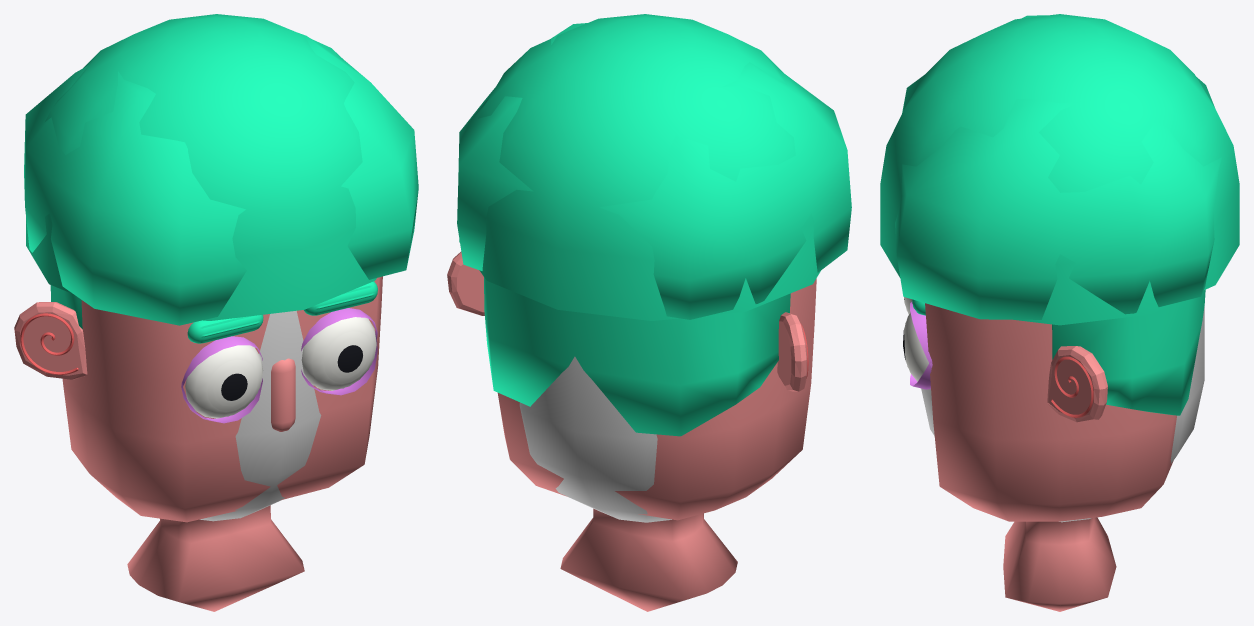
File: convobot_head.fbx
3 views of the same model, side by side, from view 1: azimuth 30°, elevation 25°; view 2: azimuth 150°, elevation 25°; view 3: azimuth 270°, elevation 25° (orthographic).
Visible parts, largest first — view 1: hair_backup1, hair_bowl, head, head_backup, R_ear, R_eye, L_eye, R_eye_backup2, nose, L_eye_backup2, R_brow, L_brow (+5 smaller); view 2: hair_backup1, hair_bowl, head, hair_back, head_backup, R_ear, L_ear; view 3: hair_bowl, head, hair_backup1, hair_back, L_ear, head_backup, L_eye, L_ear_swirl, L_lidupper.
Part boxes in pixels (x1,y1,x2,y2): hair_backup1: (26, 14, 376, 320); hair_bowl: (24, 33, 418, 325); head: (62, 276, 382, 611); head_backup: (200, 310, 321, 521); R_ear: (14, 302, 87, 379); R_eye: (185, 345, 263, 418); L_eye: (301, 317, 376, 390); R_eye_backup2: (207, 359, 257, 411); nose: (271, 358, 295, 431); L_eye_backup2: (324, 331, 371, 382); R_brow: (187, 315, 263, 343); L_brow: (304, 281, 377, 315); hair_backup1: (459, 14, 820, 320); hair_bowl: (457, 23, 851, 319); head: (497, 278, 816, 611); hair_back: (484, 277, 790, 436); head_backup: (519, 356, 671, 522); R_ear: (777, 312, 807, 391); L_ear: (447, 251, 484, 315); hair_bowl: (895, 15, 1221, 319); head: (925, 303, 1176, 611); hair_backup1: (880, 14, 1239, 325); hair_back: (1052, 290, 1205, 415); L_ear: (1047, 346, 1107, 422); head_backup: (921, 306, 1204, 522); L_eye: (908, 312, 928, 381); L_ear_swirl: (1051, 356, 1093, 417); L_lidupper: (910, 301, 932, 367).
Bounding box in the file's own units: 752 × 1161 × 654.
